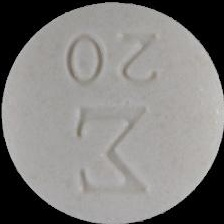42794-020: (0, 0, 224, 224)
